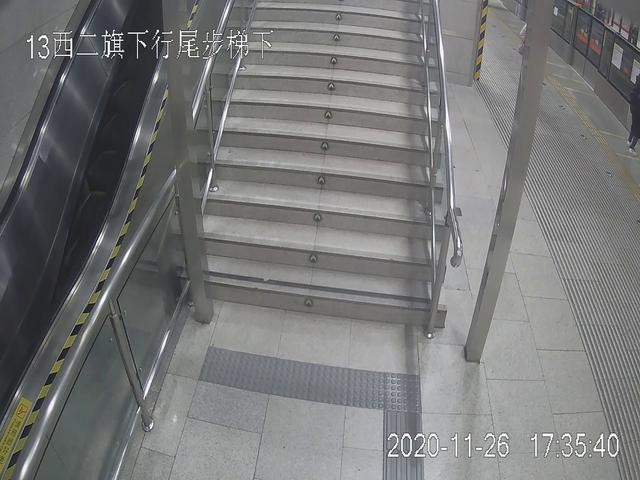person: (617, 59, 640, 166)
